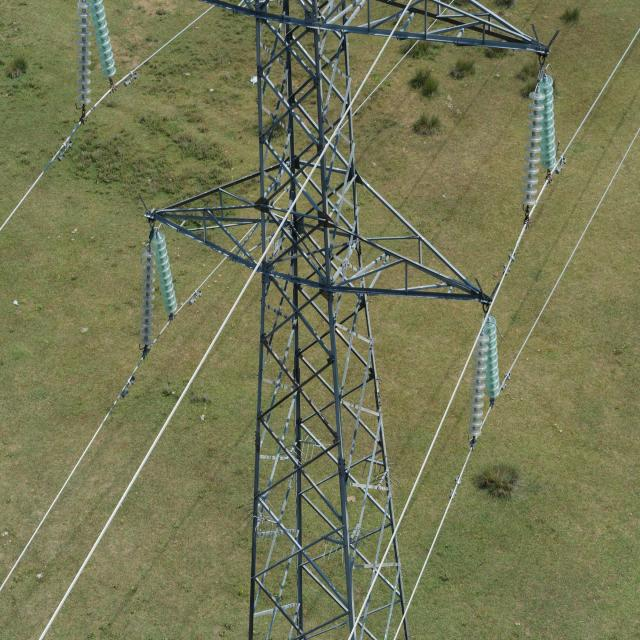direk: (236, 0, 423, 640)
